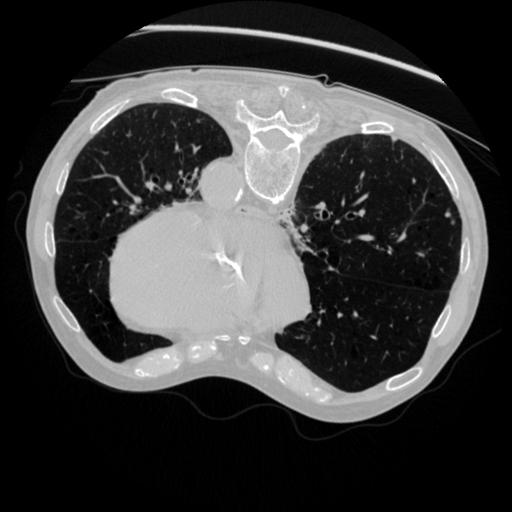nodule: (442, 208, 455, 221)
